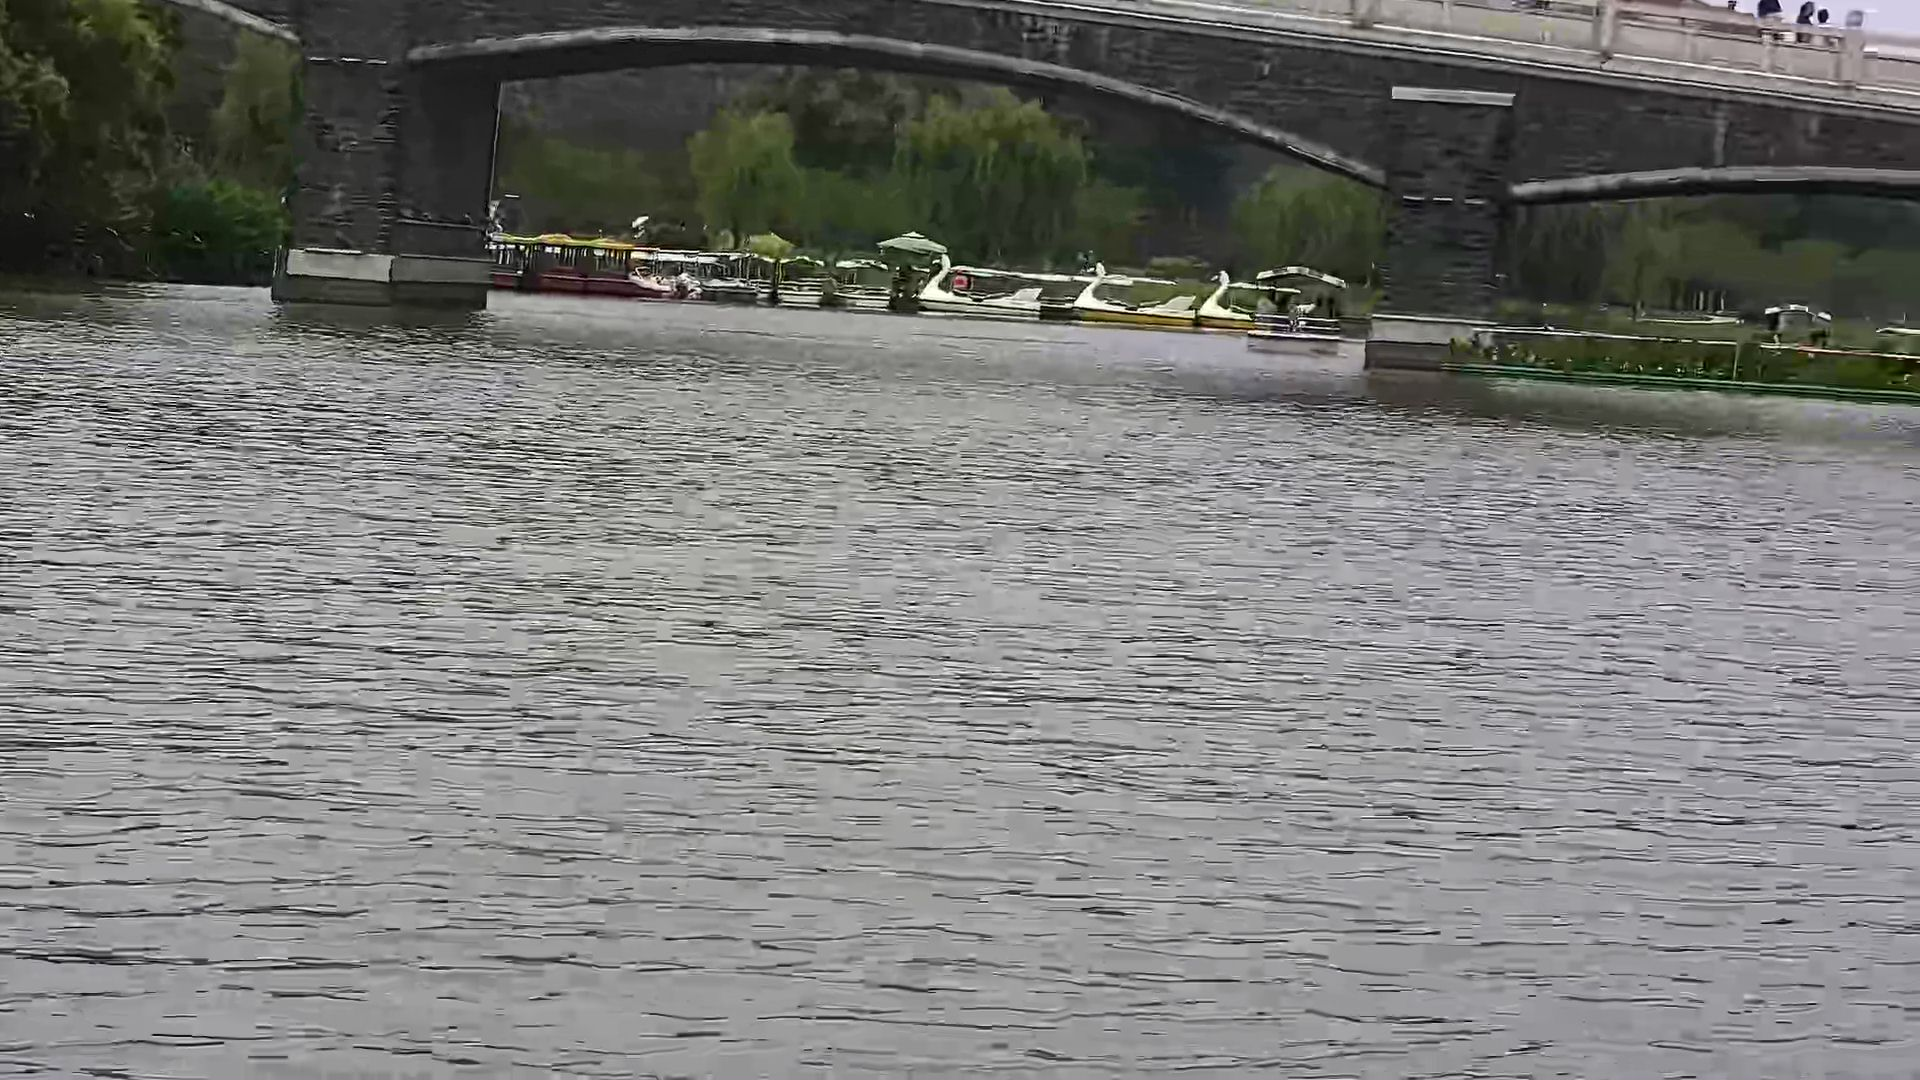harbor: (495, 203, 1360, 344)
